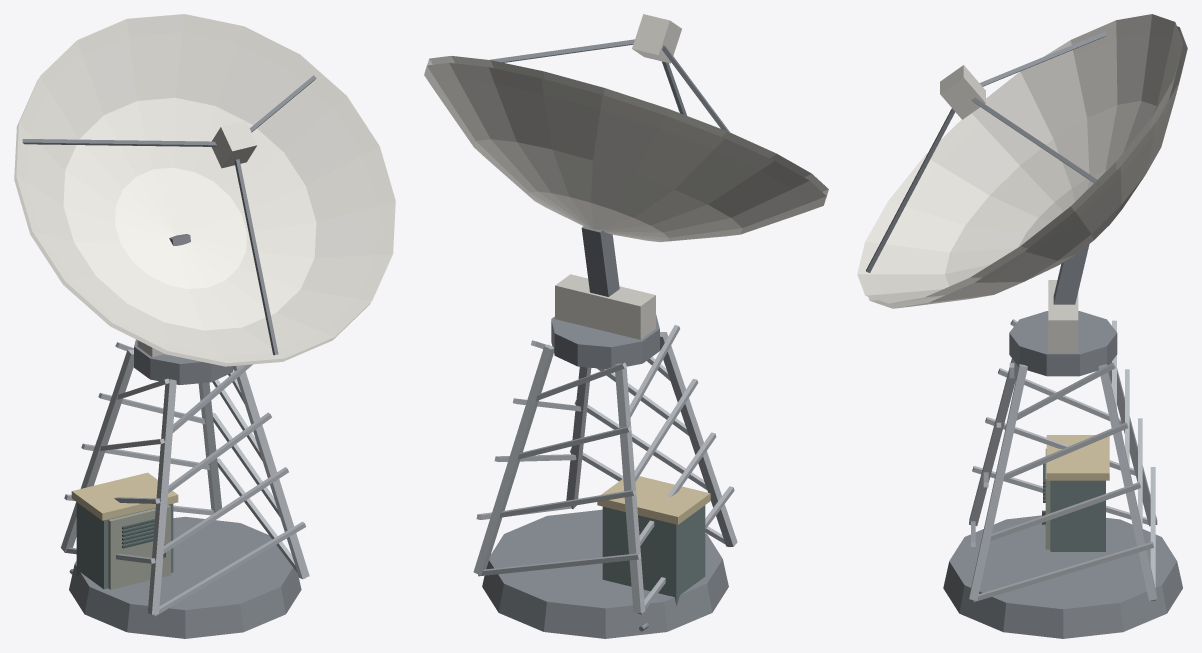
File: satellite-dish.glb
3 views of the same model, side by side, from view 1: azimuth 30°, elevation 25°; view 2: azimuth 150°, elevation 25°; view 3: azimuth 270°, elevation 25° (orthographic). The views are drawn at different scales.
Parts seen in each view (by area): view 1: satellite-dish, Receiver_equipment_and_cable_runs; view 2: satellite-dish, Receiver_equipment_and_cable_runs; view 3: satellite-dish, Receiver_equipment_and_cable_runs.
Part boxes in pixels (box(x1,y1,x2,y2)): satellite-dish: box(14, 14, 395, 638); Receiver_equipment_and_cable_runs: box(69, 472, 178, 589); satellite-dish: box(424, 14, 828, 638); Receiver_equipment_and_cable_runs: box(597, 476, 710, 631); satellite-dish: box(857, 14, 1187, 638); Receiver_equipment_and_cable_runs: box(1042, 435, 1109, 551).
Size of the model in its own units: 6.9 by 10.02 by 5.51.
